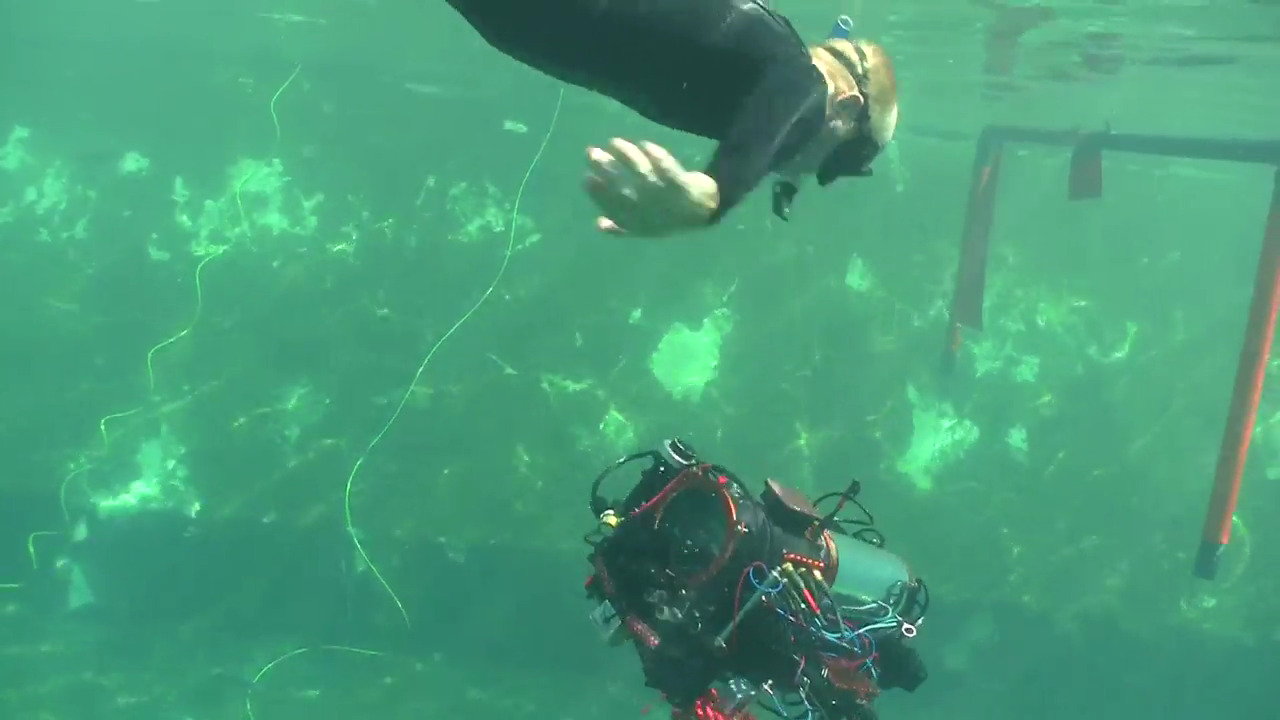gate: (943, 101, 1274, 600)
